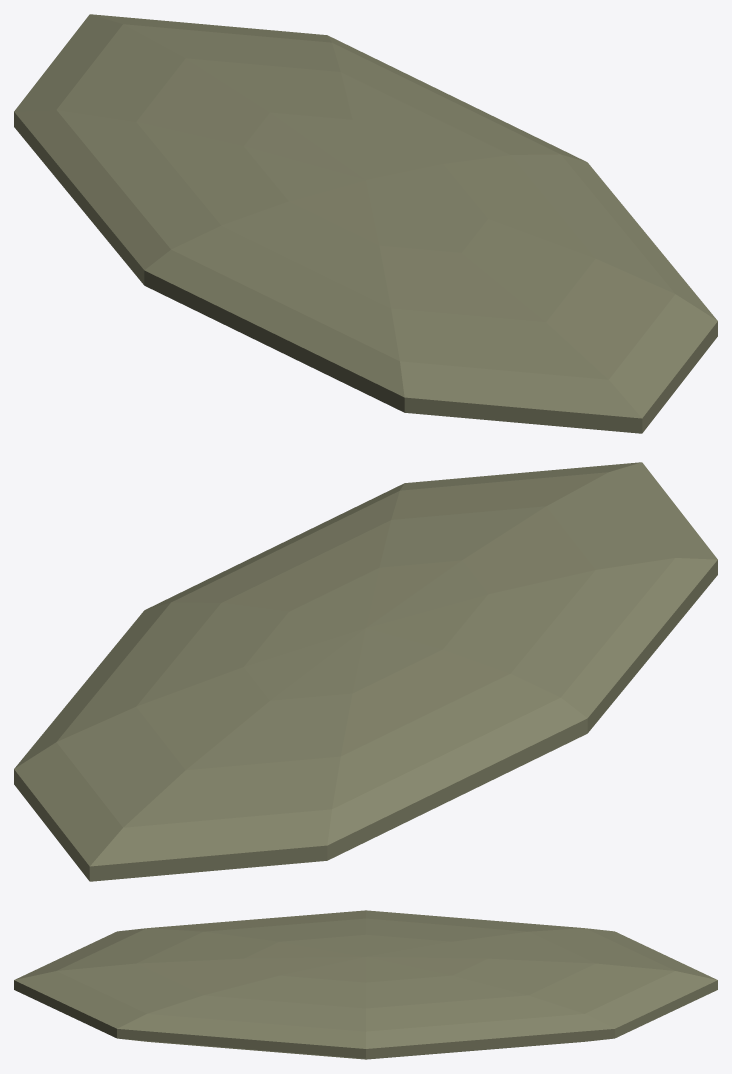
Rendered from TopROck.fbx.
3 views of the same model, one above another, from view 1: azimuth 30°, elevation 25°; view 2: azimuth 150°, elevation 25°; view 3: azimuth 270°, elevation 25° (orthographic). The views are drawn at different scales.
Parts seen in each view (by area): view 1: pSphere1; view 2: pSphere1; view 3: pSphere1.
Part boxes in pixels (x1,y1,x2,y2): pSphere1: [14, 14, 717, 433]; pSphere1: [14, 462, 717, 881]; pSphere1: [14, 910, 717, 1059].
Bounding box in the file's own units: 3.37 × 0.6398 × 7.29.
